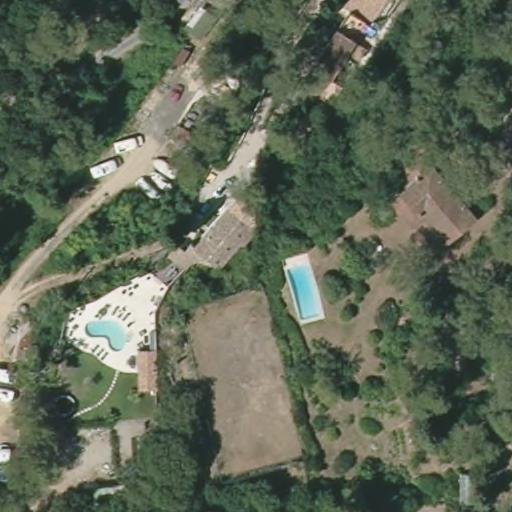pool: (283, 262, 324, 320), (80, 313, 135, 353)
